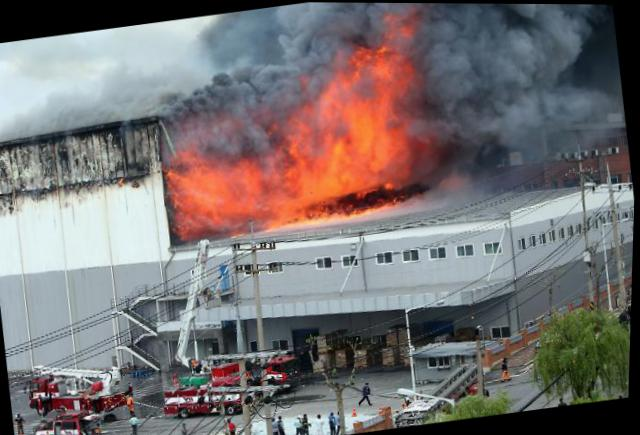fire: (345, 93, 409, 191), (184, 165, 235, 218), (236, 157, 269, 215), (323, 136, 356, 192), (296, 157, 331, 207), (353, 43, 398, 81), (272, 194, 308, 223)
